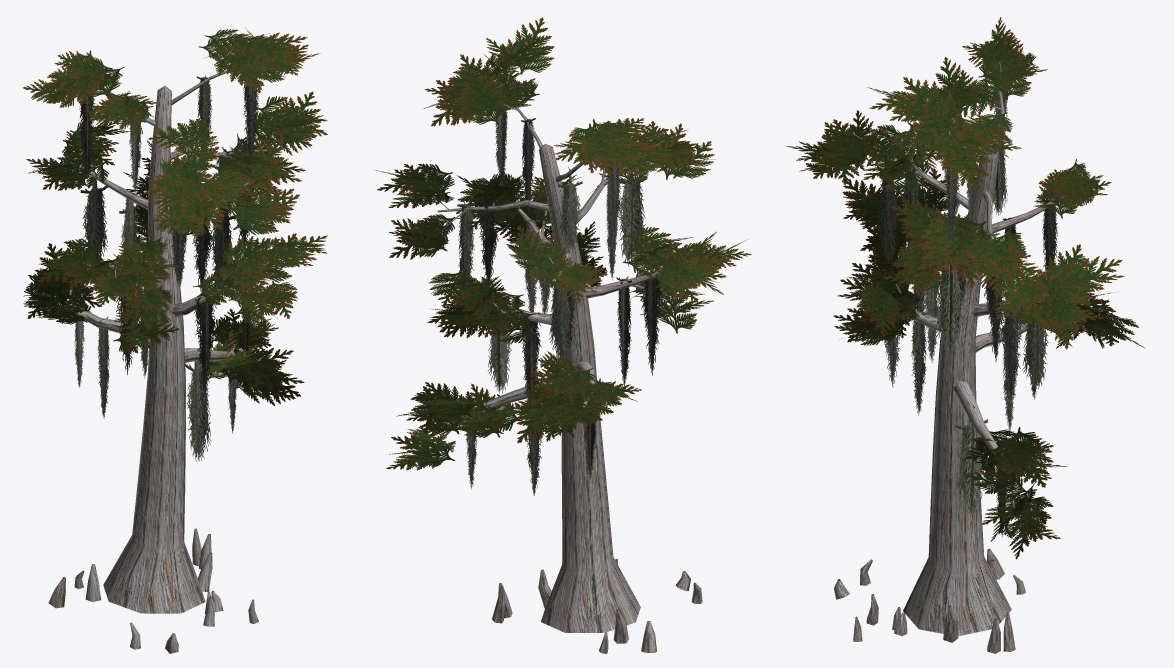
File: nature-black-swamp-cypress.glb
3 views of the same model, side by side, from view 1: azimuth 30°, elevation 25°; view 2: azimuth 150°, elevation 25°; view 3: azimuth 270°, elevation 25° (orthographic). The views are drawn at different scales.
Visible parts, largest first — view 1: nature-black-swamp-cypress; view 2: nature-black-swamp-cypress; view 3: nature-black-swamp-cypress.
Part boxes in pixels (left/top/right/bottom): nature-black-swamp-cypress: left=23, top=28, right=327, bottom=653; nature-black-swamp-cypress: left=375, top=17, right=751, bottom=653; nature-black-swamp-cypress: left=786, top=17, right=1145, bottom=653.
Bounding box in the file's own units: 7.02 × 11.64 × 6.84.
Materials: 2 (2 with a texture image).
